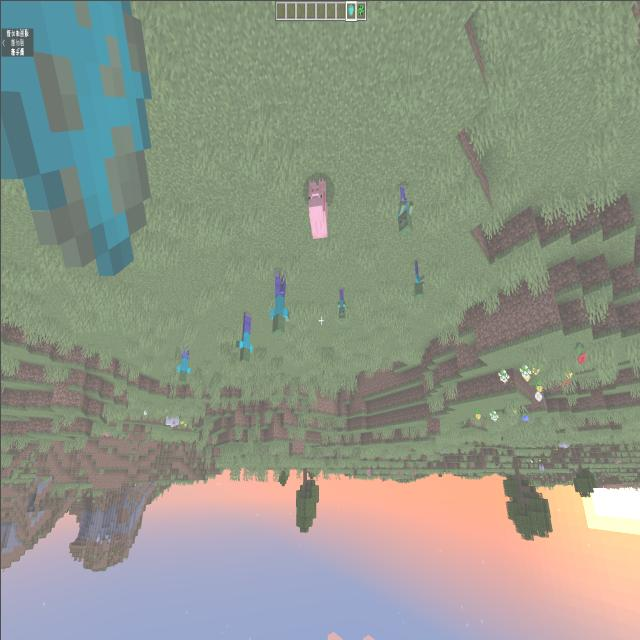Zombie: (262, 255, 296, 347), (388, 174, 418, 241), (234, 306, 253, 372), (402, 258, 428, 302), (175, 338, 190, 386), (330, 286, 350, 322)
chicken: (438, 438, 445, 452)
pig: (301, 165, 331, 245), (98, 423, 110, 437), (394, 468, 404, 478), (365, 464, 371, 478), (380, 471, 387, 483), (408, 466, 416, 476)
